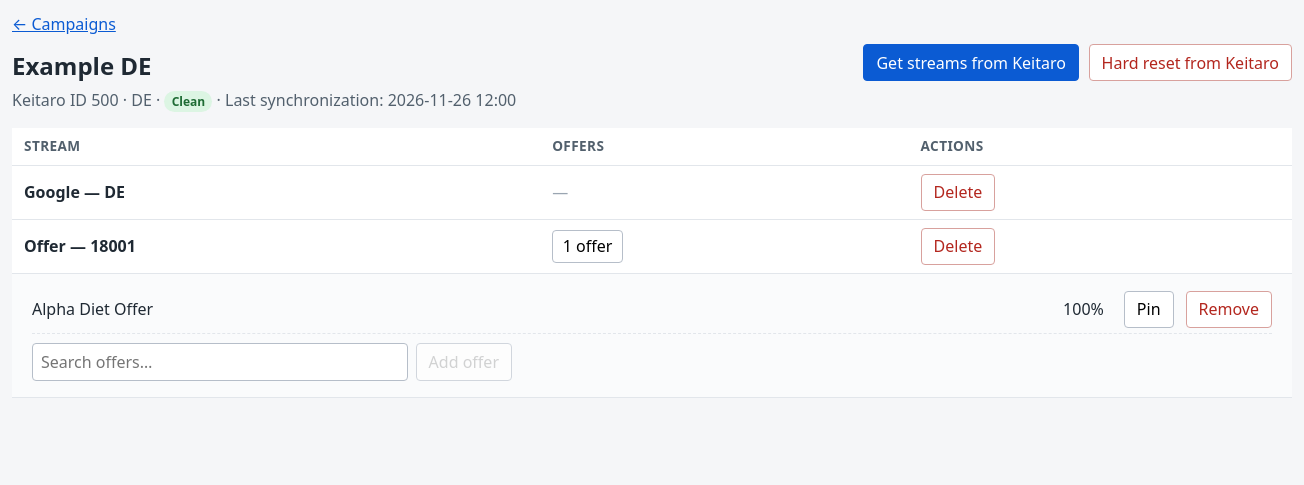
Test: CampaignEditorPage — fetch, discard, and conflicts › asks for a reload instead of retrying over another tab’s edits (stale revision)
expect the text "Google — DE" is shown: met, box [24,181,125,203]
Step 1. Click the button "Delete" in the row of "Google — DE" → (958, 192), box [921,174,995,211]
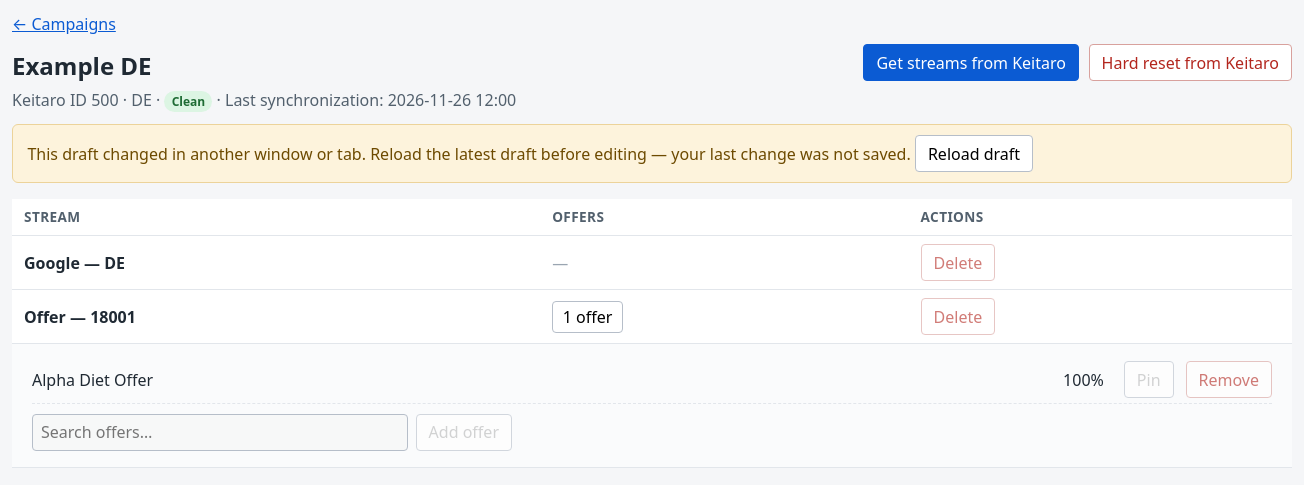
expect the button "Get streams from Keitaro" is shown: met, box [864,44,1079,81]
expect the text "changed in another window or tab" is shown: met, box [27,142,911,164]
Step 2. Click the button "Reload draft" → (974, 154), box [915,135,1033,172]
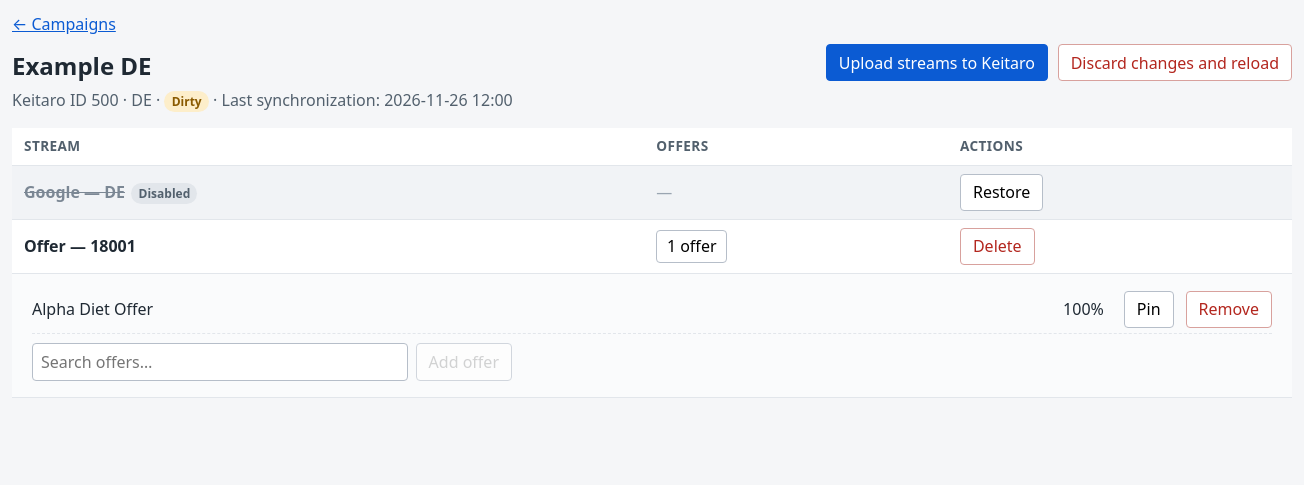
expect the text "changed in another window or tab" is gone: met
expect the button "Upload streams to Keitaro" is shown: met, box [826,44,1048,81]
